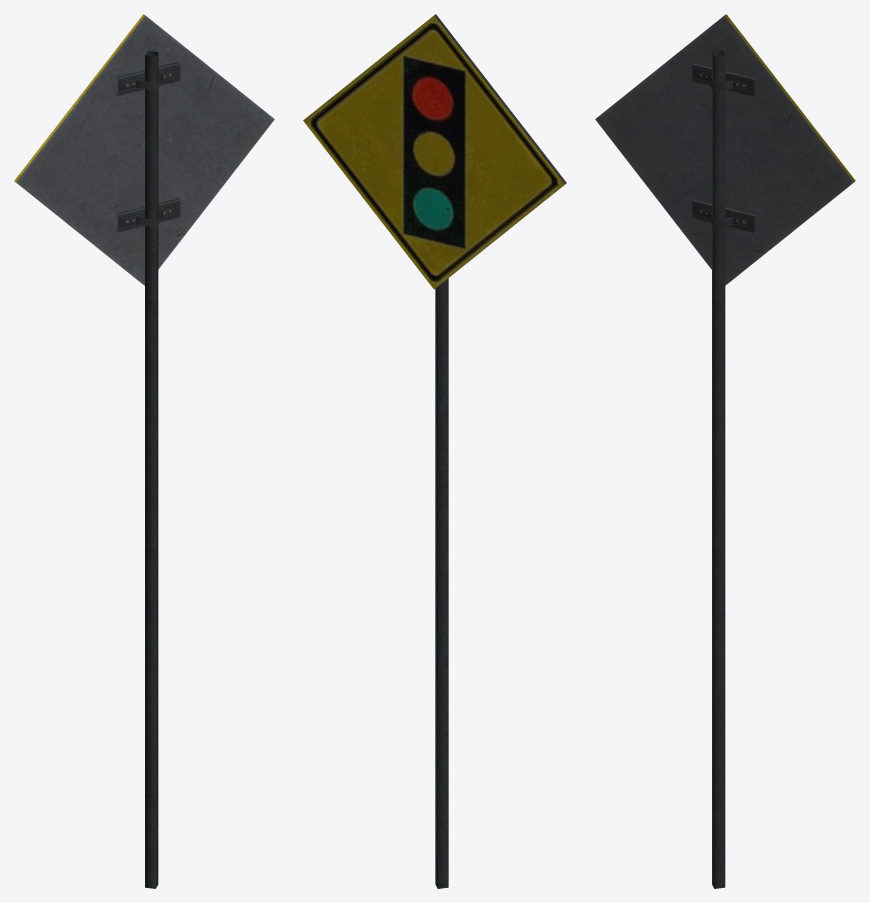
File: Traffic_Light.glb
3 views of the same model, side by side, from view 1: azimuth 30°, elevation 25°; view 2: azimuth 150°, elevation 25°; view 3: azimuth 330°, elevation 25° (orthographic).
Parts seen in each view (by area): view 1: Traffic_Light__LOD1; view 2: Traffic_Light__LOD1; view 3: Traffic_Light__LOD1.
Part boxes in pixels (left/top/right/bottom): Traffic_Light__LOD1: left=14, top=14, right=274, bottom=888; Traffic_Light__LOD1: left=303, top=14, right=566, bottom=888; Traffic_Light__LOD1: left=595, top=14, right=855, bottom=888.
Size of the model in its own units: 0.9743 by 3.11 by 0.0893.
1 material, 1 textured.
